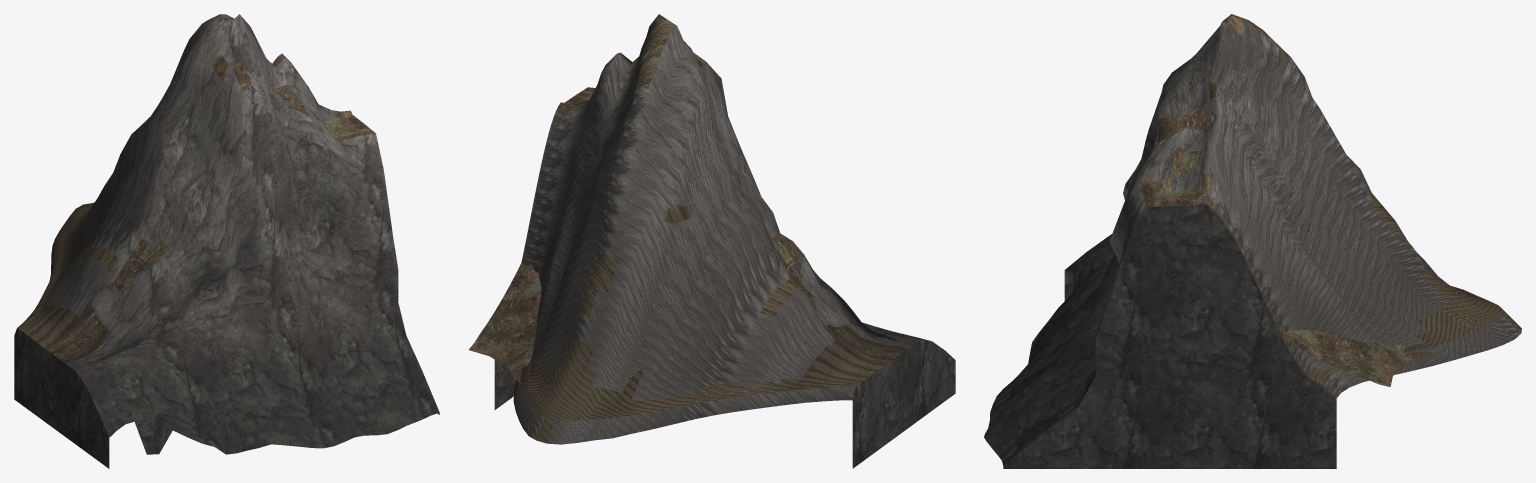
File: seacliff_endcap_left_h3_a_v5_autumn.glb
The picture shows the model from 3 angles, left to right: view 1: azimuth 30°, elevation 25°; view 2: azimuth 150°, elevation 25°; view 3: azimuth 270°, elevation 25°; orthographic projection. The views are drawn at different scales.
Parts seen in each view (by area): view 1: seacliff_endcap_left_h3_a; view 2: seacliff_endcap_left_h3_a; view 3: seacliff_endcap_left_h3_a.
Boxes of the visible parts, x1=… form: seacliff_endcap_left_h3_a: x1=14, y1=14, x2=439, y2=468; seacliff_endcap_left_h3_a: x1=469, y1=14, x2=955, y2=468; seacliff_endcap_left_h3_a: x1=984, y1=14, x2=1521, y2=468.
Size of the model in its own units: 6 by 6.69 by 8.29.
Materials: 2 (2 with a texture image).
